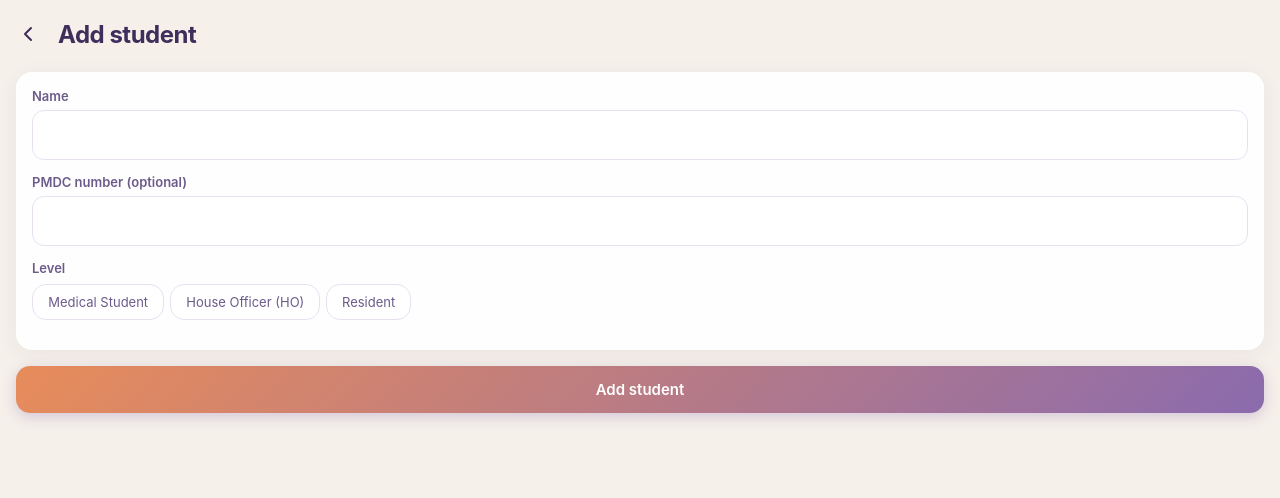
student form › saves a new student and shows them in the list
Type "Maryam Butt" into the field labelled "Name". click: (640, 135)
box: x1=32 y1=110 x2=1248 y2=160
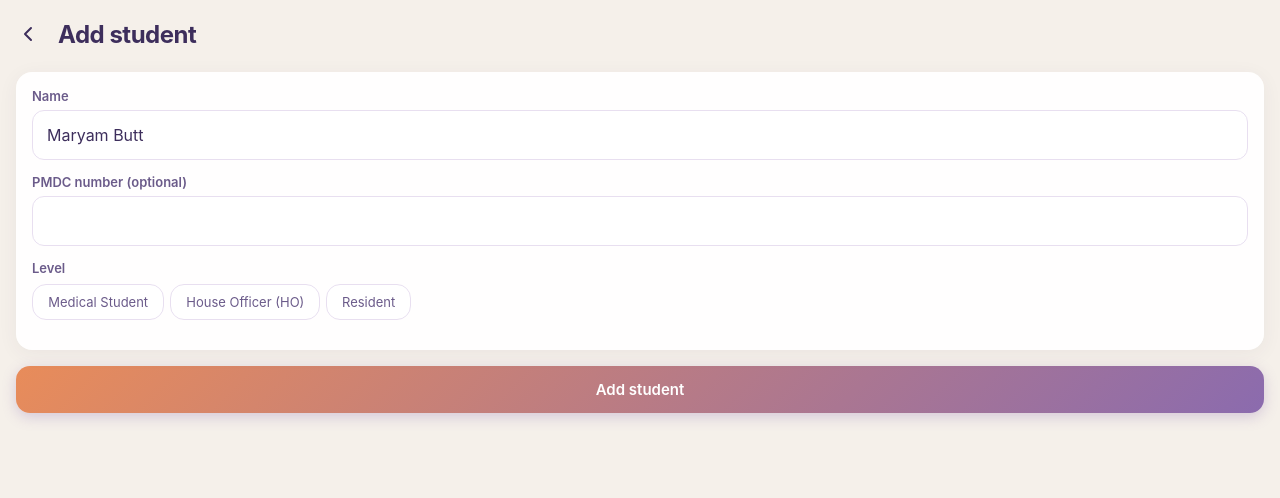
Type "55555-p" into the field labelled "PMDC number (optional)". click: (640, 221)
box: x1=32 y1=196 x2=1248 y2=246
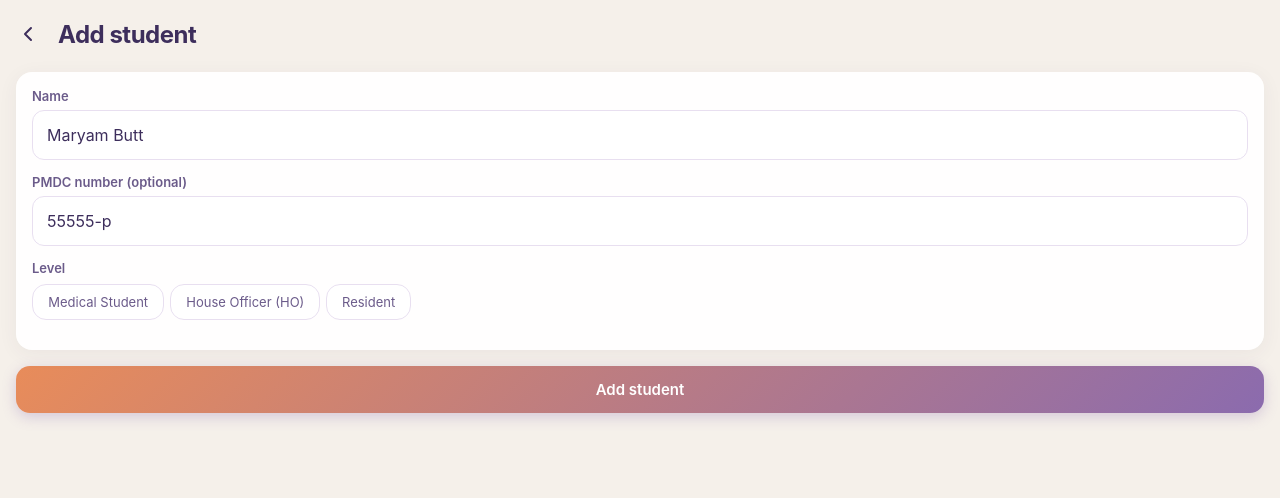
Click the button "Medical Student". click: click(98, 302)
box: x1=32 y1=284 x2=164 y2=320
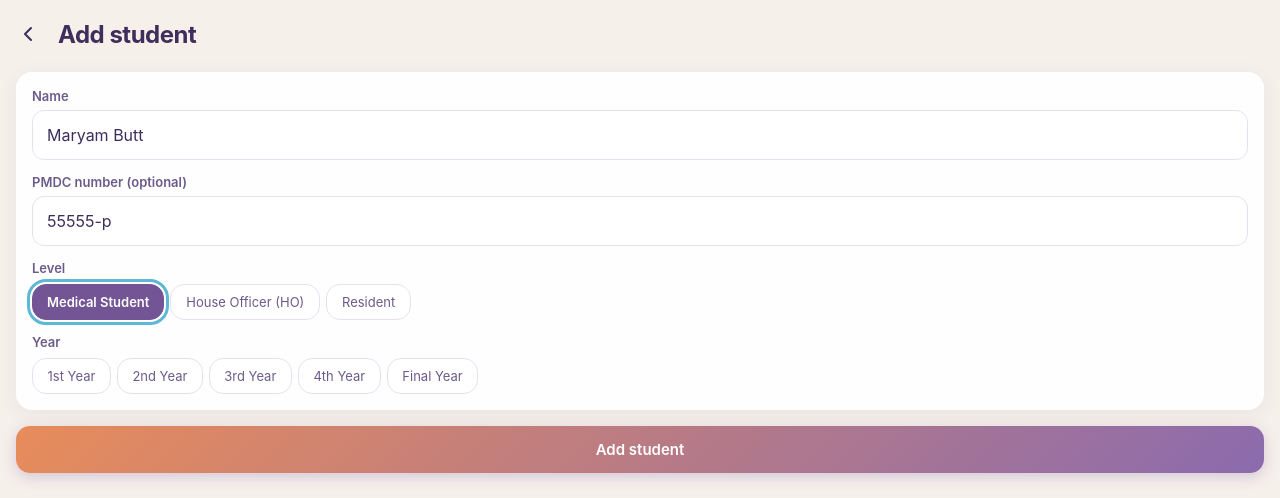
Click the button "Final Year". click: click(432, 376)
box: x1=387 y1=358 x2=478 y2=394
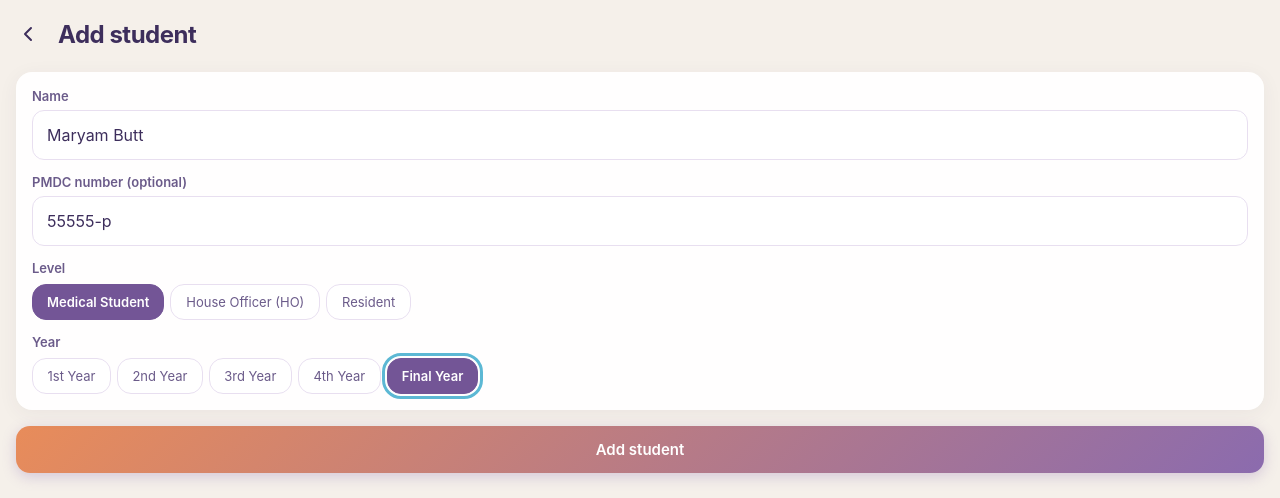
Click the button "Add student". click: click(640, 450)
box: x1=16 y1=426 x2=1264 y2=473
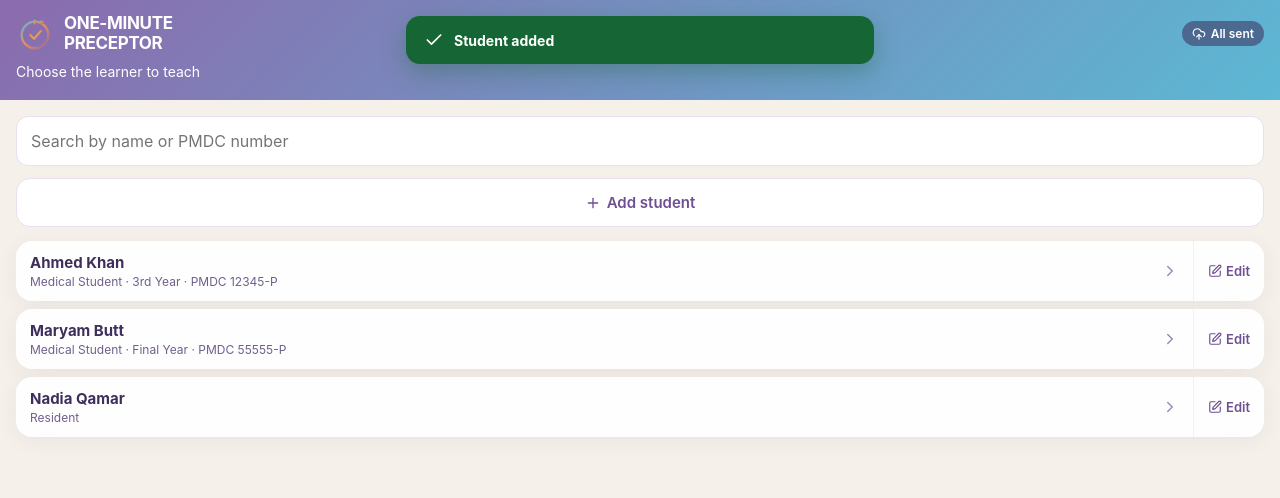
Check: the button with aria-label "Teach Maryam Butt" is shown, box x1=16 y1=309 x2=1193 y2=369
